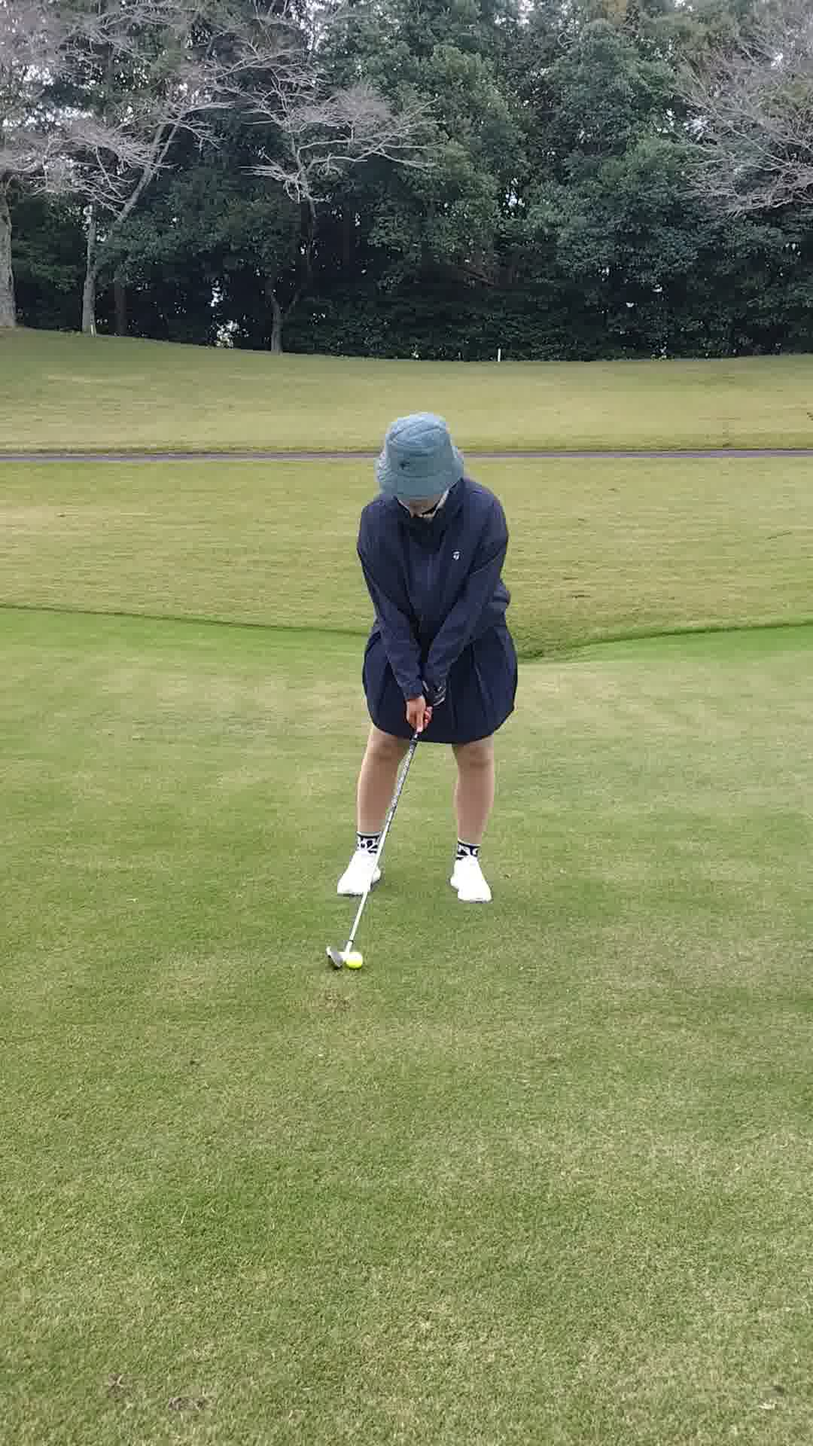clubhead: (223, 921, 390, 1036)
